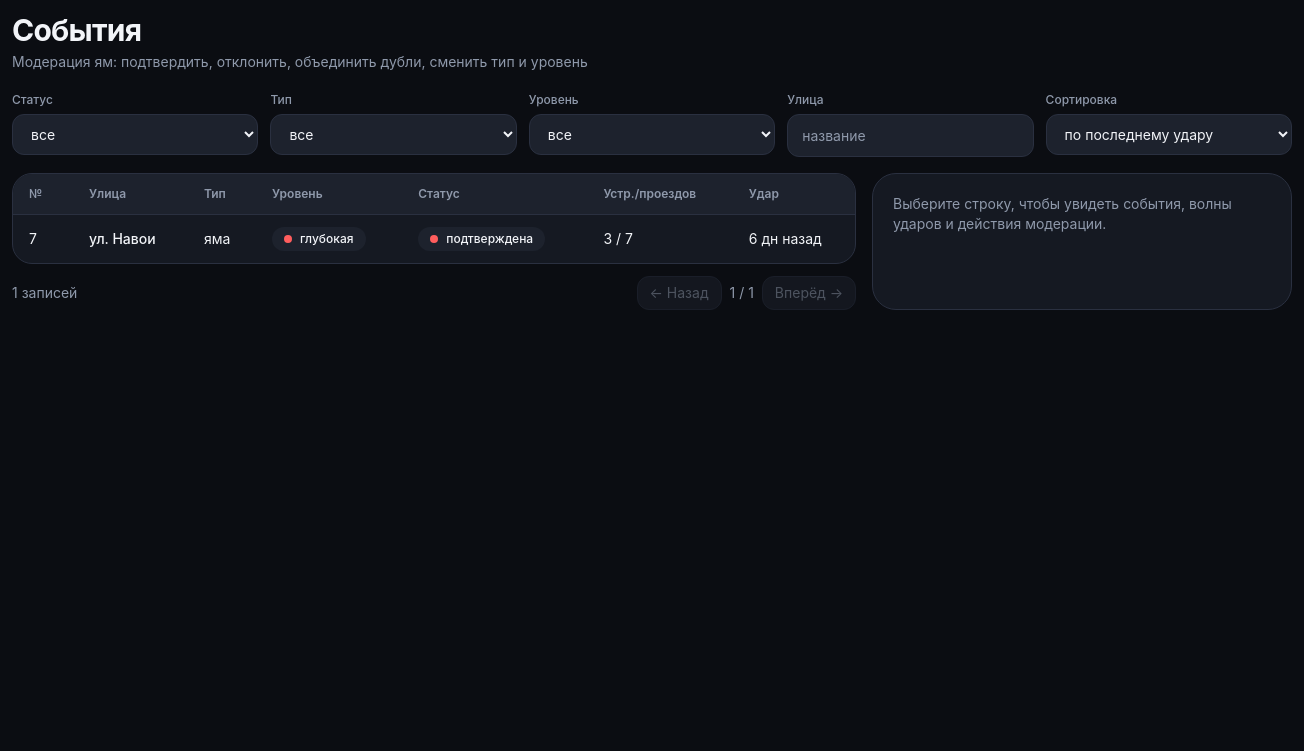
Test: модерация ям › аналитику кнопки модерации недоступны
Click the text "ул. Навои".
click(122, 238)  # box [89,230,156,247]
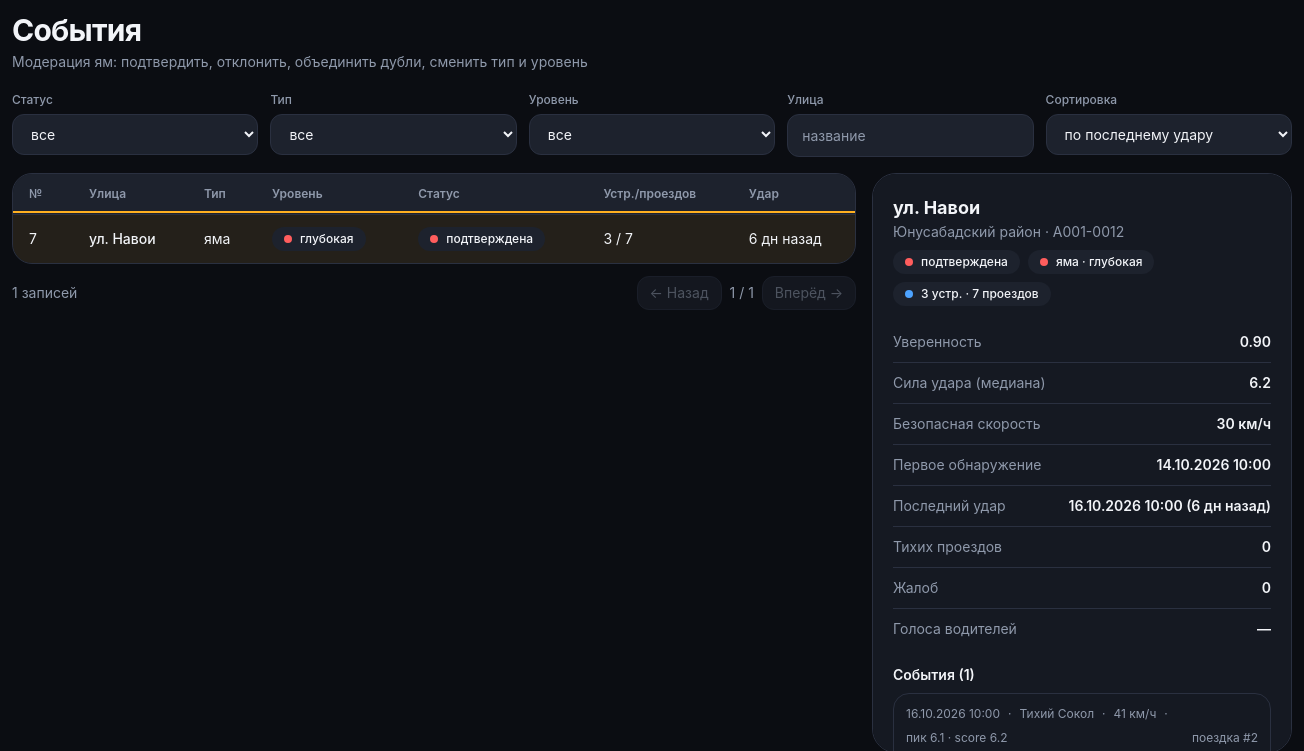
Check: the heading "События (1)" is shown, box [893,666,975,683]
